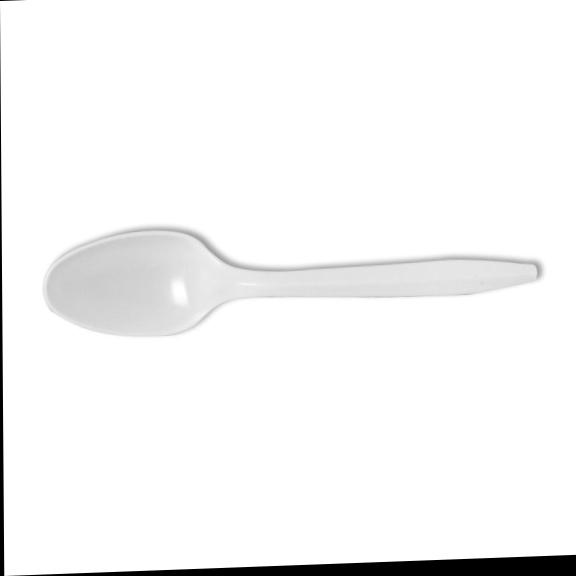Plastik: (45, 230, 537, 335)
